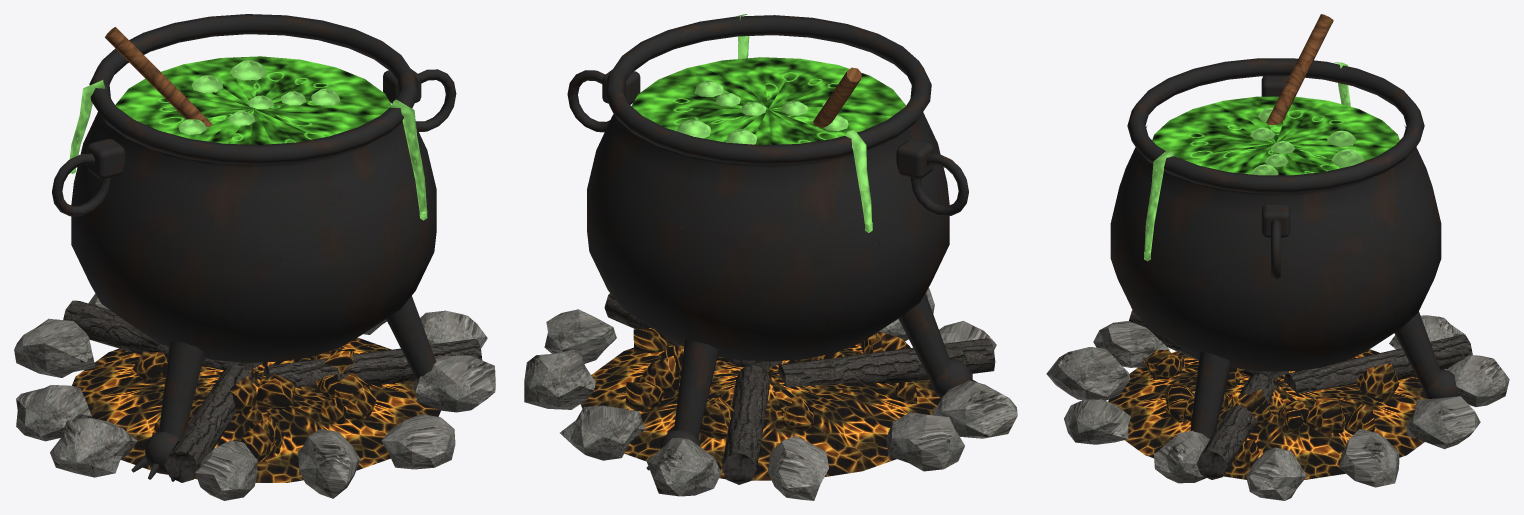
Rendered from prop_cauldron.glb.
The picture shows the model from 3 angles, left to right: view 1: azimuth 30°, elevation 25°; view 2: azimuth 150°, elevation 25°; view 3: azimuth 270°, elevation 25°; orthographic projection. The views are drawn at different scales.
Visible parts, largest first — view 1: prop; view 2: prop; view 3: prop.
Part boxes in pixels (bbox=[...]): prop: bbox=[14, 14, 495, 500]; prop: bbox=[524, 14, 1017, 500]; prop: bbox=[1046, 14, 1509, 500].
Bounding box in the file's own units: 0.8151 × 0.6691 × 0.8134.
Materials: 7 (7 with a texture image).
